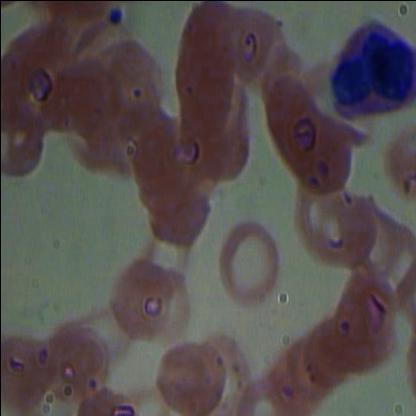Platelets: (104, 3, 127, 29)
RBC: (39, 55, 110, 153), (257, 74, 327, 172), (40, 306, 113, 398), (104, 245, 172, 342), (212, 211, 280, 307), (140, 246, 208, 342), (144, 162, 212, 258), (96, 30, 164, 126), (152, 329, 226, 415), (1, 91, 54, 192), (338, 198, 406, 276), (330, 276, 399, 352), (271, 328, 339, 405), (300, 308, 368, 385), (316, 289, 384, 366), (290, 179, 358, 256), (313, 186, 381, 263), (1, 313, 56, 407), (112, 87, 172, 163), (224, 3, 284, 79), (254, 352, 323, 415), (228, 364, 297, 416), (373, 121, 415, 198)
WBC: (328, 10, 415, 126)
